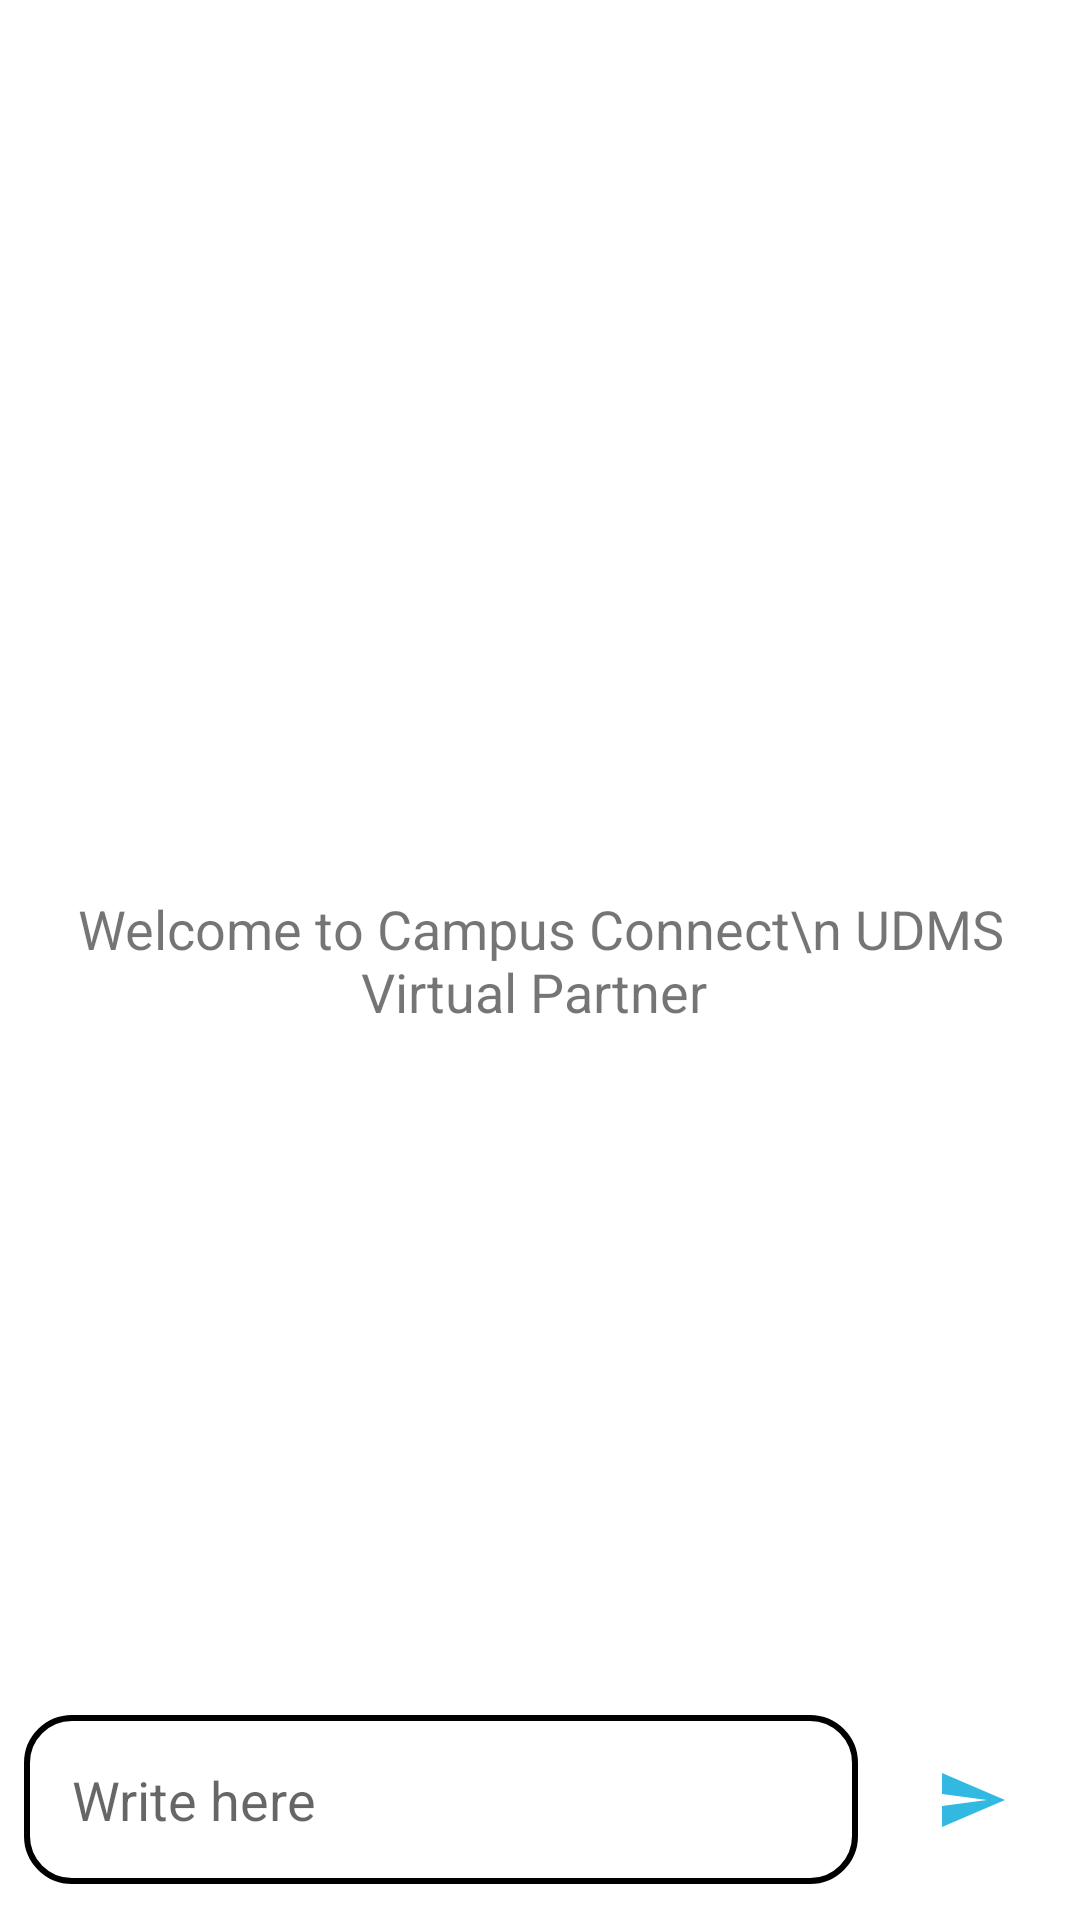

Screen size 1080px×1920px. Icon name, then its center in pixels as [x,y]:
send: [973,1800]
